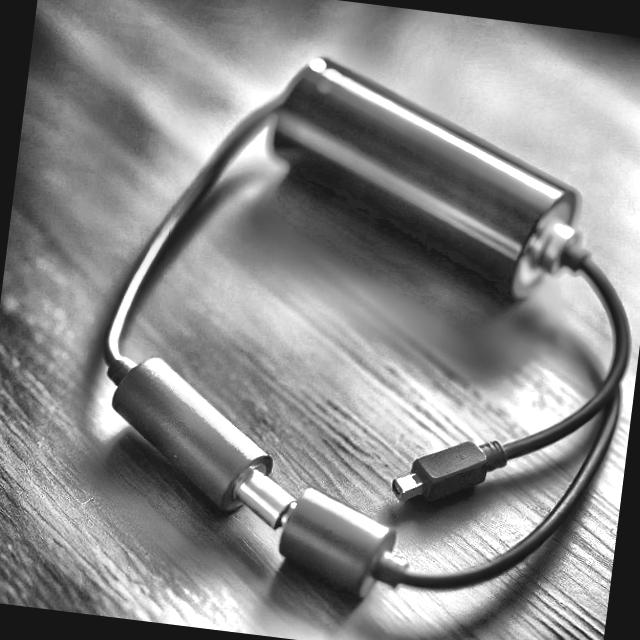Battery: (253, 48, 598, 302)
Cable: (59, 243, 636, 617)
